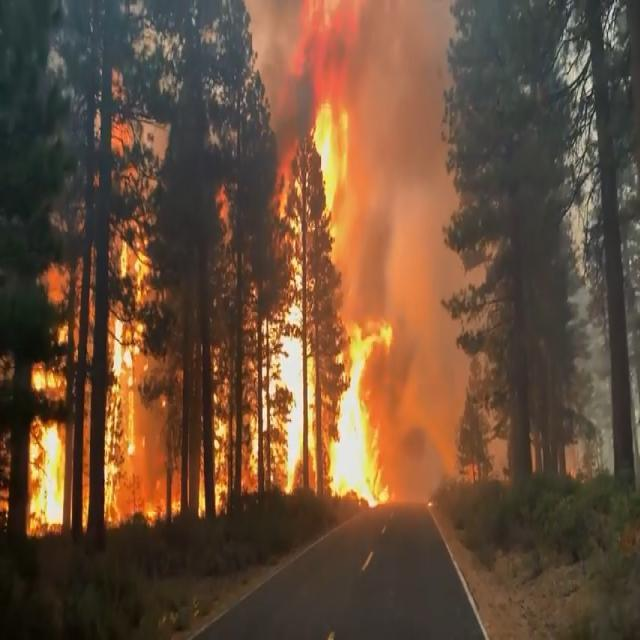Fire: (27, 84, 394, 528)
